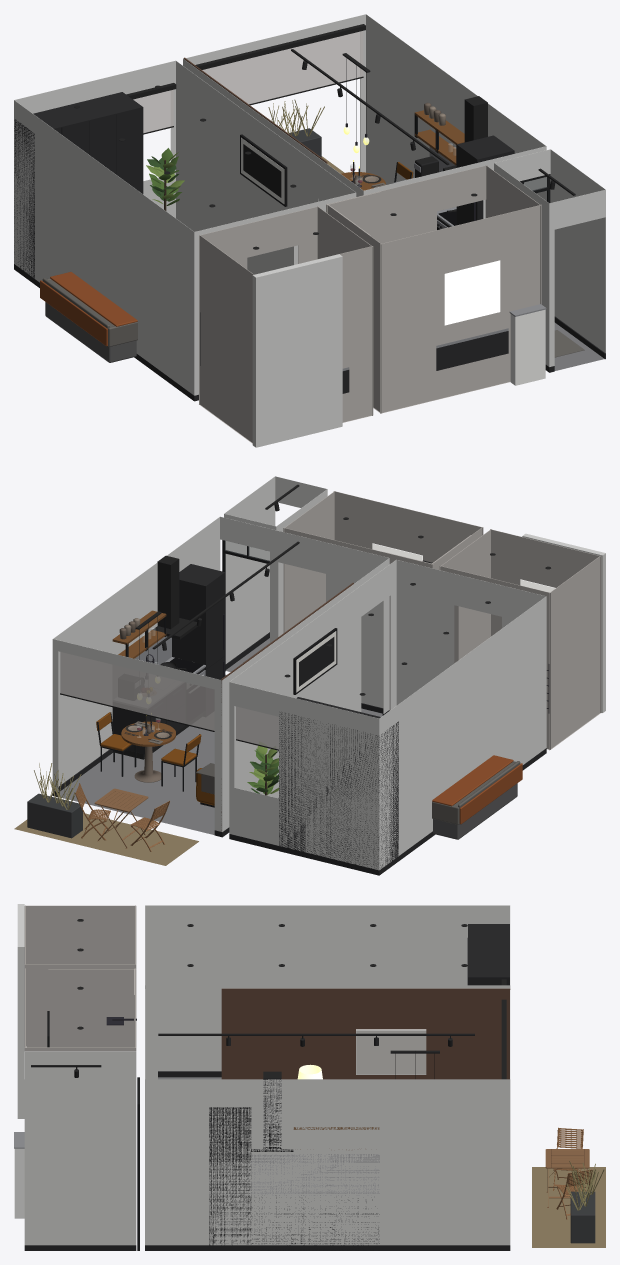
Rendered from unit-1.A-urban.glb.
3 views of the same model, one above another, from view 1: azimuth 30°, elevation 25°; view 2: azimuth 150°, elevation 25°; view 3: azimuth 270°, elevation 25° (orthographic). The views are drawn at different scales.
Parts seen in each view (by area): view 1: int-wall, int-bathWall, int-joineryTall, int-sheer, int-matteBlack, int-ledStrip, int-bedThrow, int-whiteGloss, int-wood, int-headboard, int-showerWall, int-duvet (+8 smaller); view 2: int-wall, int-bathWall, int-joineryTall, int-sheer, int-floor, int-deck, int-matteBlack, int-bedThrow, int-skirting, int-outdoor, int-wood, int-headboard (+16 smaller); view 3: int-wall, int-feature, int-bathWall, int-joineryTall, int-showerWall, int-deck, int-skirting, int-art:4:0, int-matteBlack, int-outdoor, int-inst-track|matteBlack, int-splash (+7 smaller).
Part boxes in pixels (x1,y1,x2,y2): int-wall: (14, 14, 605, 447); int-bathWall: (199, 165, 541, 442); int-joineryTall: (14, 92, 514, 393); int-sheer: (133, 31, 363, 133); int-matteBlack: (126, 24, 555, 212); int-ledStrip: (444, 260, 500, 325); int-bedThrow: (40, 272, 137, 346); int-whiteGloss: (510, 309, 545, 385); int-wood: (341, 110, 464, 190); int-headboard: (45, 302, 136, 362); int-showerWall: (326, 191, 380, 242); int-duvet: (42, 278, 137, 346); int-wall: (52, 476, 605, 870); int-bathWall: (283, 491, 601, 750); int-joineryTall: (172, 564, 398, 874); int-sheer: (60, 652, 278, 749); int-floor: (60, 674, 382, 834); int-deck: (14, 813, 198, 865); int-matteBlack: (60, 502, 279, 759); int-bedThrow: (432, 755, 522, 824); int-skirting: (52, 632, 546, 875); int-outdoor: (27, 793, 82, 838); int-wood: (112, 610, 175, 746); int-headboard: (433, 783, 517, 839); int-wall: (17, 904, 510, 1245); int-feature: (221, 988, 510, 1079); int-bathWall: (24, 905, 136, 1051); int-joineryTall: (209, 924, 509, 1250); int-showerWall: (48, 968, 136, 1047); int-deck: (532, 1167, 605, 1247); int-skirting: (24, 1071, 510, 1250); int-art:4:0: (356, 1030, 426, 1074); int-matteBlack: (74, 979, 506, 1250); int-outdoor: (570, 1191, 595, 1243); int-inst-track|matteBlack: (31, 1033, 474, 1067); int-splash: (251, 1154, 379, 1193).
Bounding box in the file's own units: 6.37 × 2.7 × 8.41.
